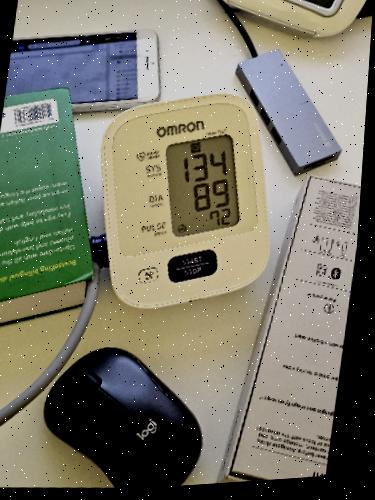bpm: (165, 132, 241, 239)
